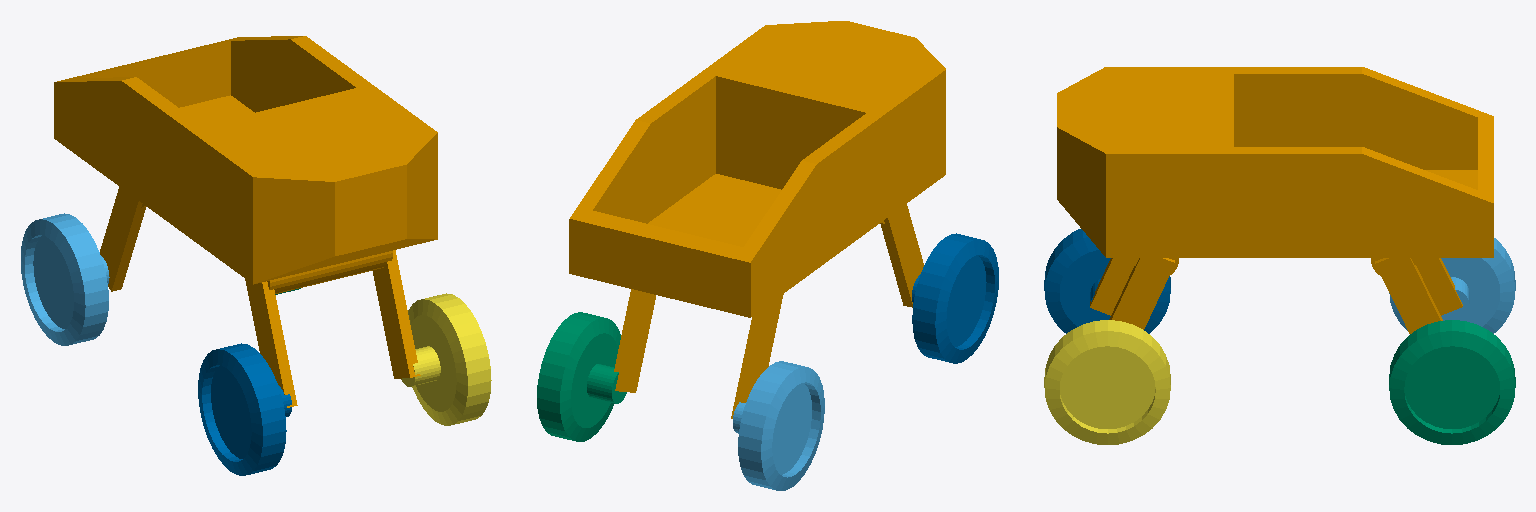
URDF robot description (robot_v1):
<robot name="robot_v1" version="1.0">
  <joint name="rueda_a_d_link_joint" type="continuous">
    <limit lower="0" upper="0" effort="0.00000" velocity="0.00000"/>
    <origin rpy="-0.00000 1.57080 0.00000" xyz="-1.00000 2.74000 -1.65000"/>
    <parent link="cuerpo_link"/>
    <child link="rueda_a_d_link"/>
    <axis xyz="0.00000 0.00000 1.00000"/>
  </joint>
  <joint name="rueda_a_i_link_joint" type="continuous">
    <limit lower="0" upper="0" effort="0.00000" velocity="0.00000"/>
    <origin rpy="-0.00000 1.57080 0.00000" xyz="1.00000 2.74000 -1.65000"/>
    <parent link="cuerpo_link"/>
    <child link="rueda_a_i_link"/>
    <axis xyz="0.00000 0.00000 1.00000"/>
  </joint>
  <joint name="rueda_d_l_link_joint" type="continuous">
    <limit lower="0" upper="0" effort="0.00000" velocity="0.00000"/>
    <origin rpy="-0.00000 1.57080 0.00000" xyz="1.00000 -0.26000 -1.65000"/>
    <parent link="cuerpo_link"/>
    <child link="rueda_d_l_link"/>
    <axis xyz="0.00000 0.00000 1.00000"/>
  </joint>
  <joint name="rueda_d_r_link_joint" type="continuous">
    <limit lower="0" upper="0" effort="0.00000" velocity="0.00000"/>
    <origin rpy="-0.00000 1.57080 0.00000" xyz="-1.00000 -0.26000 -1.65000"/>
    <parent link="cuerpo_link"/>
    <child link="rueda_d_r_link"/>
    <axis xyz="0.00000 0.00000 1.00000"/>
  </joint>
  <link name="cuerpo_link">
    <collision name="cuerpo_collision">
      <origin rpy="0.00000 0.00000 0.00000" xyz="0.00000 0.00000 0.00000"/>
      <geometry>
        <mesh filename="../meshes/stl/Cubo.009.stl" scale="0.90000 0.70000 0.50000"/>
      </geometry>
    </collision>
    <visual name="cuerpo">
      <origin rpy="0.00000 0.00000 0.00000" xyz="0.00000 0.00000 0.00000"/>
      <geometry>
        <mesh filename="../meshes/stl/Cubo.009.stl" scale="0.90000 0.70000 0.50000"/>
      </geometry>
    </visual>
  </link>
  <link name="rueda_a_d_link">
    <collision name="rueda_a_d_collision">
      <origin rpy="-3.14159 0.00000 3.14159" xyz="0.00000 0.00000 -0.00000"/>
      <geometry>
        <mesh filename="../meshes/stl/Cilindro.stl" scale="0.55000 0.55000 0.15000"/>
      </geometry>
    </collision>
    <visual name="rueda_a_d">
      <origin rpy="3.14159 -0.00000 3.14159" xyz="0.00000 0.00000 0.00000"/>
      <geometry>
        <mesh filename="../meshes/stl/Cilindro.stl" scale="0.55000 0.55000 0.15000"/>
      </geometry>
    </visual>
  </link>
  <link name="rueda_a_i_link">
    <collision name="rueda_a_i_collision">
      <origin rpy="0.00000 0.00000 0.00000" xyz="-0.00000 0.00000 -0.00000"/>
      <geometry>
        <mesh filename="../meshes/stl/Cilindro.stl" scale="0.55000 0.55000 0.15000"/>
      </geometry>
    </collision>
    <visual name="rueda_a_i">
      <origin rpy="0.00000 0.00000 0.00000" xyz="-0.00000 0.00000 -0.00000"/>
      <geometry>
        <mesh filename="../meshes/stl/Cilindro.stl" scale="0.55000 0.55000 0.15000"/>
      </geometry>
    </visual>
  </link>
  <link name="rueda_d_l_link">
    <collision name="rueda_d_l_collision">
      <origin rpy="0.00000 0.00000 0.00000" xyz="-0.00000 0.00000 -0.00000"/>
      <geometry>
        <mesh filename="../meshes/stl/Cilindro.stl" scale="0.55000 0.55000 0.15000"/>
      </geometry>
    </collision>
    <visual name="rueda_d_l">
      <origin rpy="0.00000 0.00000 0.00000" xyz="-0.00000 0.00000 -0.00000"/>
      <geometry>
        <mesh filename="../meshes/stl/Cilindro.stl" scale="0.55000 0.55000 0.15000"/>
      </geometry>
    </visual>
  </link>
  <link name="rueda_d_r_link">
    <collision name="rueda_d_r_collision">
      <origin rpy="-3.14159 0.00000 3.14159" xyz="0.00000 -0.00000 -0.00000"/>
      <geometry>
        <mesh filename="../meshes/stl/Cilindro.stl" scale="0.55000 0.55000 0.15000"/>
      </geometry>
    </collision>
    <visual name="rueda_d_r">
      <origin rpy="3.14159 -0.00000 3.14159" xyz="0.00000 0.00000 0.00000"/>
      <geometry>
        <mesh filename="../meshes/stl/Cilindro.stl" scale="0.55000 0.55000 0.15000"/>
      </geometry>
    </visual>
  </link>
</robot>

--- Facts derived from the render (not from the file) ---
Views: 3 orthographic renders of the robot side by side, from view 1: azimuth 30°, elevation 25°; view 2: azimuth 150°, elevation 25°; view 3: azimuth 270°, elevation 25°.
Robot: robot_v1 — 5 links, 4 joints (4 continuous); root link cuerpo_link; default pose: every joint at zero.
Links seen in each view (by area): view 1: cuerpo_link, rueda_d_r_link, rueda_a_d_link, rueda_d_l_link; view 2: cuerpo_link, rueda_a_d_link, rueda_d_r_link, rueda_a_i_link; view 3: cuerpo_link, rueda_a_i_link, rueda_d_l_link, rueda_d_r_link, rueda_a_d_link.
Link boxes in pixels (x1,y1,x2,y2): cuerpo_link: (54,36,437,407); rueda_d_r_link: (198,343,291,475); rueda_a_d_link: (21,213,109,345); rueda_d_l_link: (401,293,491,425); cuerpo_link: (569,21,945,418); rueda_a_d_link: (733,361,824,490); rueda_d_r_link: (912,233,998,363); rueda_a_i_link: (537,312,626,441); cuerpo_link: (1057,67,1493,333); rueda_a_i_link: (1389,320,1515,444); rueda_d_l_link: (1044,320,1170,444); rueda_d_r_link: (1044,229,1170,333); rueda_a_d_link: (1389,238,1515,333).
Bounding box of the posed robot: 2.3 × 4.1 × 2.7 m (x, y, z).
Meshes: 2 distinct files referenced, 5 mesh visuals loaded (2 binary STL).
